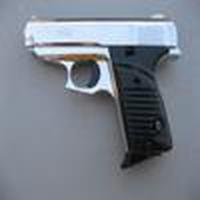gun: (14, 7, 200, 183)
